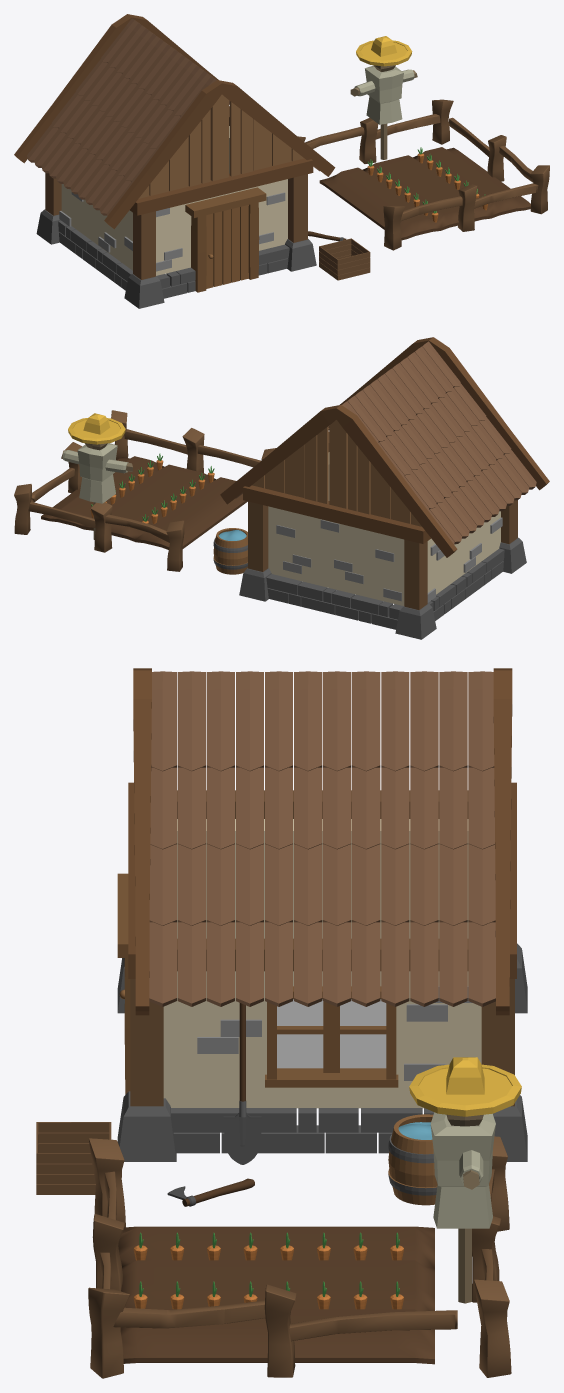
File: Farmblend (1).fbx
The picture shows the model from 3 angles, top to bottom: view 1: azimuth 30°, elevation 25°; view 2: azimuth 150°, elevation 25°; view 3: azimuth 270°, elevation 25°; orthographic projection. The views are drawn at different scales.
Parts seen in each view (by area): view 1: Cube.014, Cube.012, Cube.030, Cube.027, Cube.006, Cube.002, Cube.010, Cube.004, Cube, Cube.003, Cube.018, Cube.008 (+20 smaller); view 2: Cube.014, Cube.006, Cube.030, Cube.012, Cube.027, Cube.002, Cube.005, Cube.004, Cube, Cube.003, Cube.018, Cube.026 (+15 smaller); view 3: Cube.014, Cube.012, Cube.003, Cube.030, Cube.001, Cube.018, Cube, Cube.002, Circle.001, Cube.016, Cube.013, Cube.020 (+19 smaller).
Boxes of the visible parts, x1,y1,x2,y2 form: Cube.014: [27, 18, 319, 215]; Cube.012: [319, 147, 530, 240]; Cube.030: [14, 14, 335, 229]; Cube.027: [138, 94, 304, 198]; Cube.006: [156, 179, 287, 275]; Cube.002: [45, 173, 307, 279]; Cube.010: [206, 205, 248, 288]; Cube.004: [130, 158, 313, 215]; Cube: [36, 209, 316, 308]; Cube.003: [61, 126, 229, 270]; Cube.018: [354, 65, 414, 124]; Cube.008: [191, 202, 259, 292]; Cube.014: [235, 341, 536, 544]; Cube.006: [268, 506, 404, 605]; Cube.030: [220, 337, 549, 557]; Cube.012: [41, 456, 247, 549]; Cube.027: [252, 420, 421, 526]; Cube.002: [248, 500, 517, 609]; Cube.005: [266, 574, 403, 629]; Cube.004: [243, 485, 430, 543]; Cube: [239, 537, 526, 639]; Cube.003: [328, 452, 500, 594]; Cube.018: [62, 443, 128, 503]; Cube.026: [276, 517, 502, 602]; Cube.014: [149, 671, 495, 1006]; Cube.012: [118, 1226, 434, 1364]; Cube.003: [163, 819, 481, 1108]; Cube.030: [133, 668, 512, 1015]; Cube.001: [171, 1108, 434, 1153]; Cube.018: [430, 1112, 495, 1228]; Cube: [117, 943, 527, 1161]; Cube.002: [130, 979, 514, 1106]; Circle.001: [409, 1057, 521, 1116]; Cube.016: [36, 1122, 111, 1194]; Cube.013: [265, 986, 398, 1087]; Cube.020: [133, 1232, 403, 1309].
Bounding box in the file's own units: 665 × 296 × 326.
